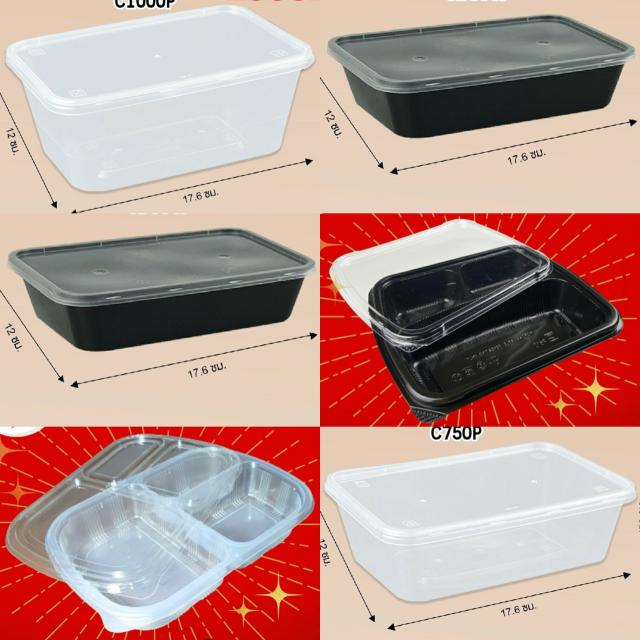Single-Use-Plastic: (6, 5, 314, 191), (46, 445, 314, 631), (324, 442, 635, 601), (368, 245, 623, 422), (8, 229, 315, 351), (328, 15, 634, 137), (6, 434, 210, 580), (330, 219, 553, 352)
